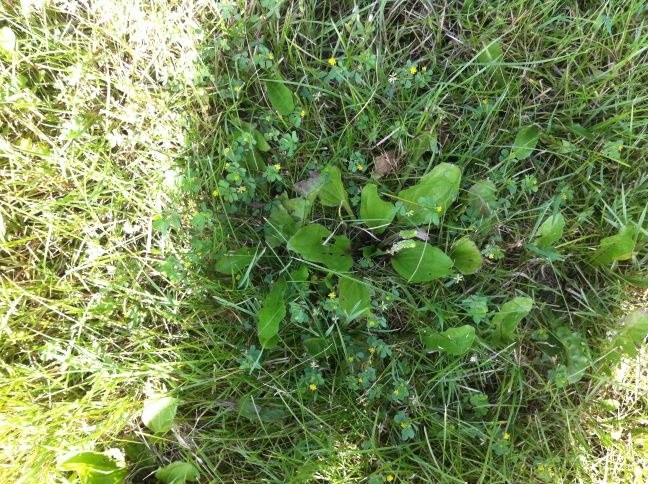weed1: (279, 158, 457, 317)
